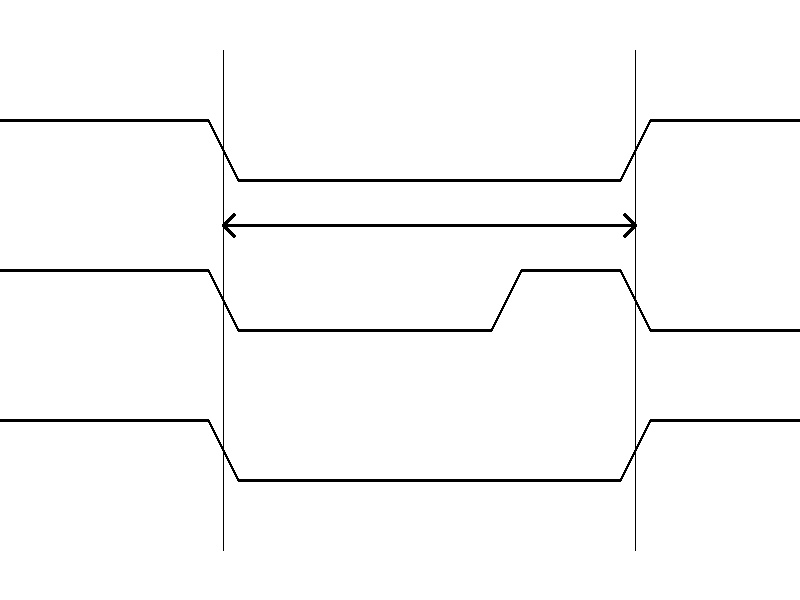double_arrow: (223, 210, 635, 240)
